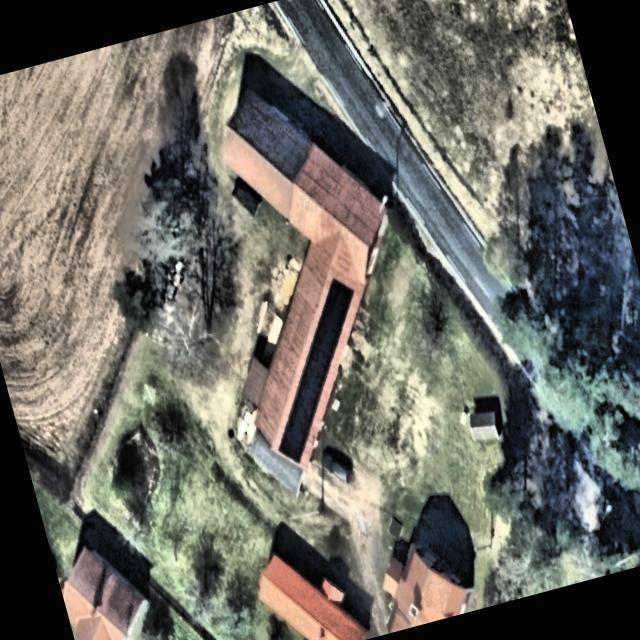roof_pv: (294, 316, 356, 386), (270, 402, 325, 472), (276, 366, 338, 426), (313, 272, 366, 336)
